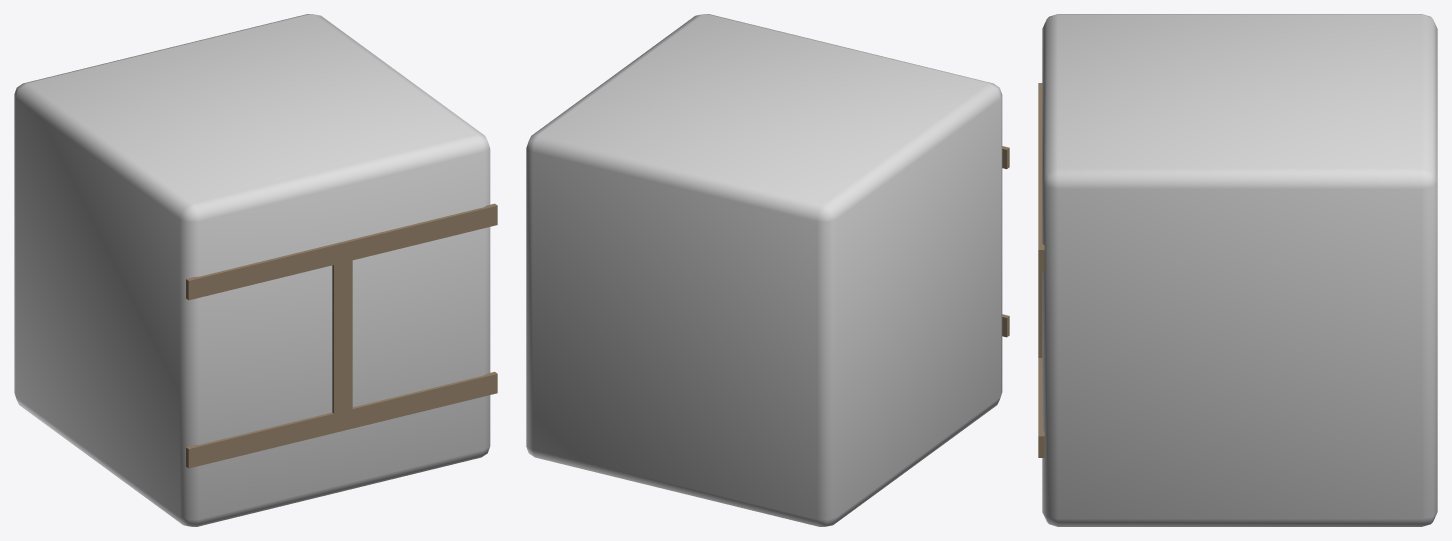
File: prop_crate_wood.glb
The picture shows the model from 3 angles, left to right: view 1: azimuth 30°, elevation 25°; view 2: azimuth 150°, elevation 25°; view 3: azimuth 270°, elevation 25°; orthographic projection. The views are drawn at different scales.
Parts seen in each view (by area): view 1: prop_crate_wood, band_0.38, band_0.12, vband; view 2: prop_crate_wood; view 3: prop_crate_wood, band_0.38, band_0.12.
Part boxes in pixels (x1,y1,x2,y2): prop_crate_wood: (14,14,490,526); band_0.38: (186,203,497,300); band_0.12: (186,371,497,468); vband: (332,255,352,419); prop_crate_wood: (526,14,1002,526); prop_crate_wood: (1042,14,1437,526); band_0.38: (1038,83,1044,271); band_0.12: (1038,358,1044,457).
Size of the model in its own units: 0.5 by 0.5 by 0.505.
